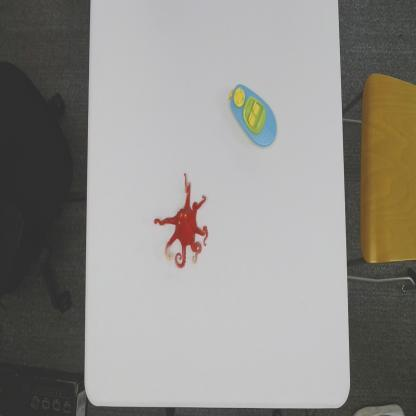Boat: (228, 82, 278, 148)
Octopus: (154, 171, 210, 270)
